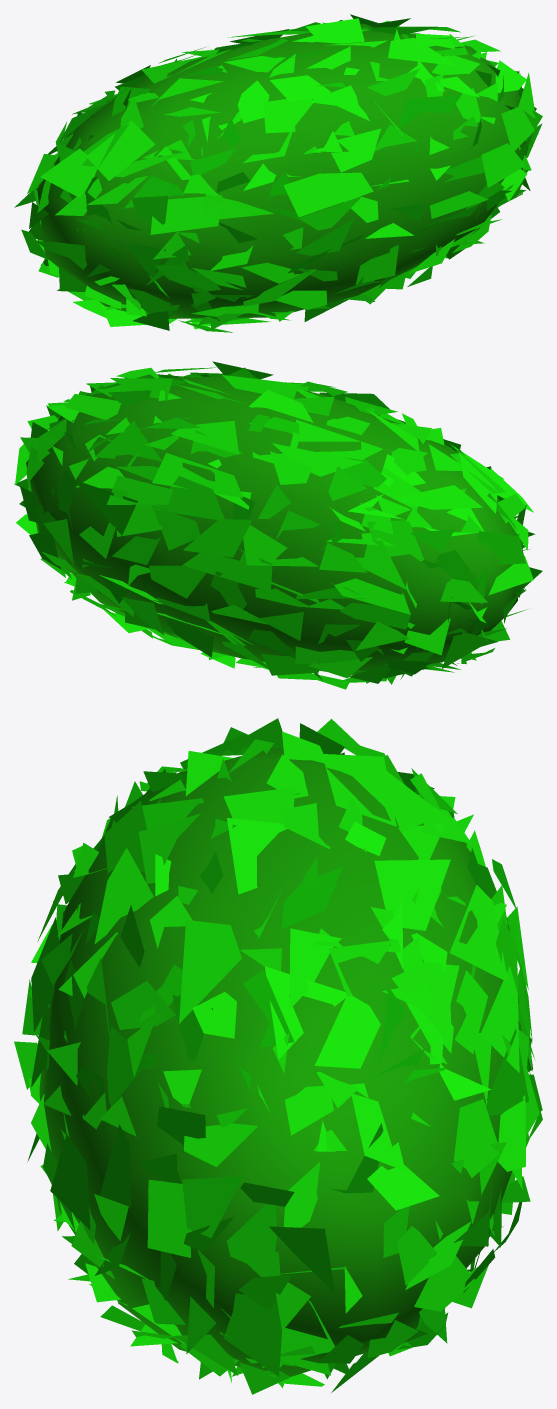
Rendered from oval_bush.fbx.
The picture shows the model from 3 angles, top to bottom: view 1: azimuth 30°, elevation 25°; view 2: azimuth 150°, elevation 25°; view 3: azimuth 270°, elevation 25°; orthographic projection. The views are drawn at different scales.
Parts seen in each view (by area): view 1: Cube.001, Cube; view 2: Cube.001, Cube; view 3: Cube.001, Cube.
Boxes of the visible parts, bbox=[...] form: Cube.001: bbox=[14, 14, 542, 332]; Cube: bbox=[37, 24, 528, 318]; Cube.001: bbox=[14, 361, 542, 689]; Cube: bbox=[26, 376, 523, 675]; Cube.001: bbox=[14, 718, 542, 1394]; Cube: bbox=[39, 748, 521, 1376].
Bounding box in the file's own units: 3.66 × 1.81 × 1.8.
